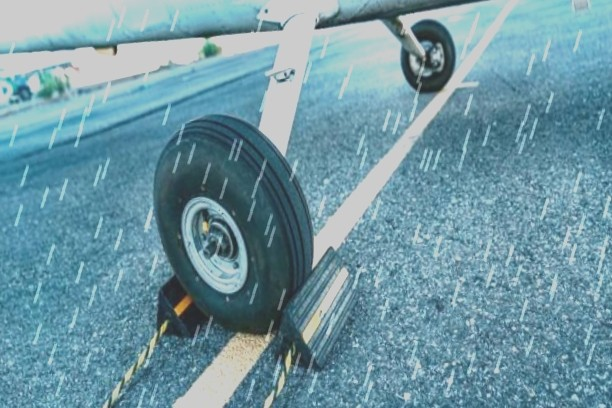chock: (252, 237, 377, 382), (144, 260, 225, 347)
wheel: (133, 95, 335, 356), (392, 10, 466, 99)
